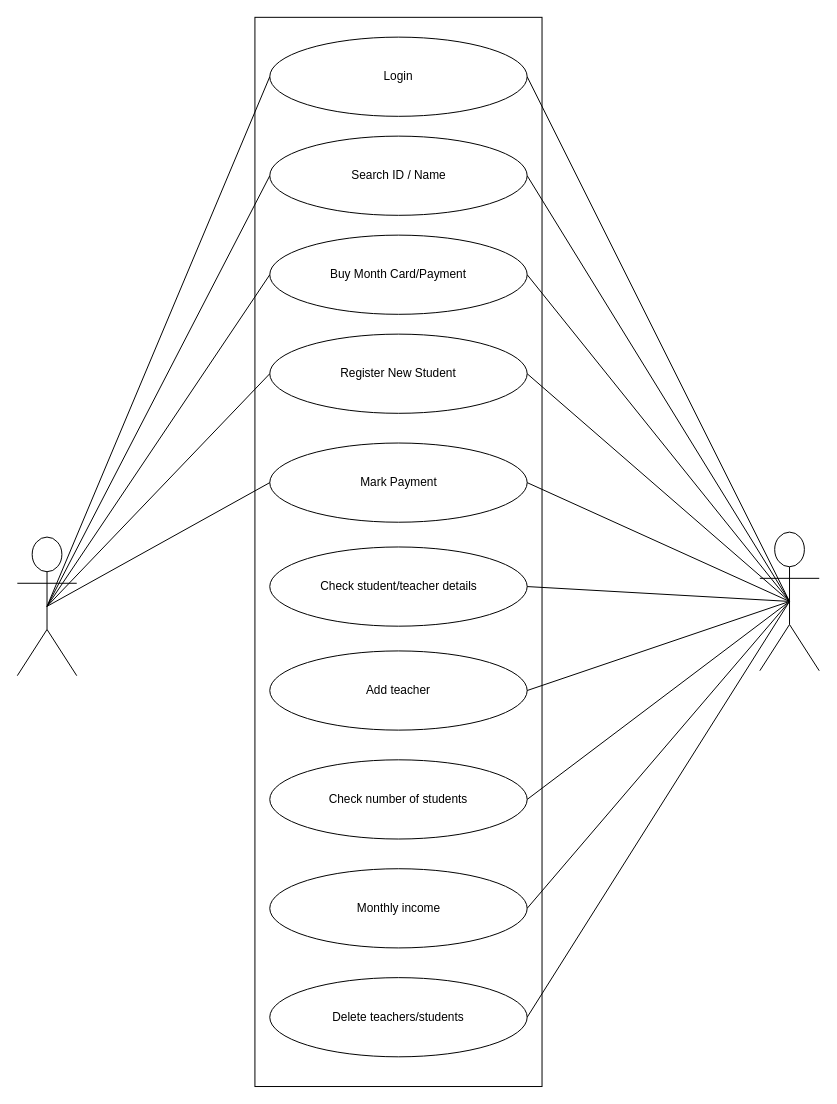
Image size: 837x1104. Some labels were removed from this diagram. The centre of each missing label's shape, as x and y in pixels:
Admin: pixel 789 601
Cashier: pixel 46 606
